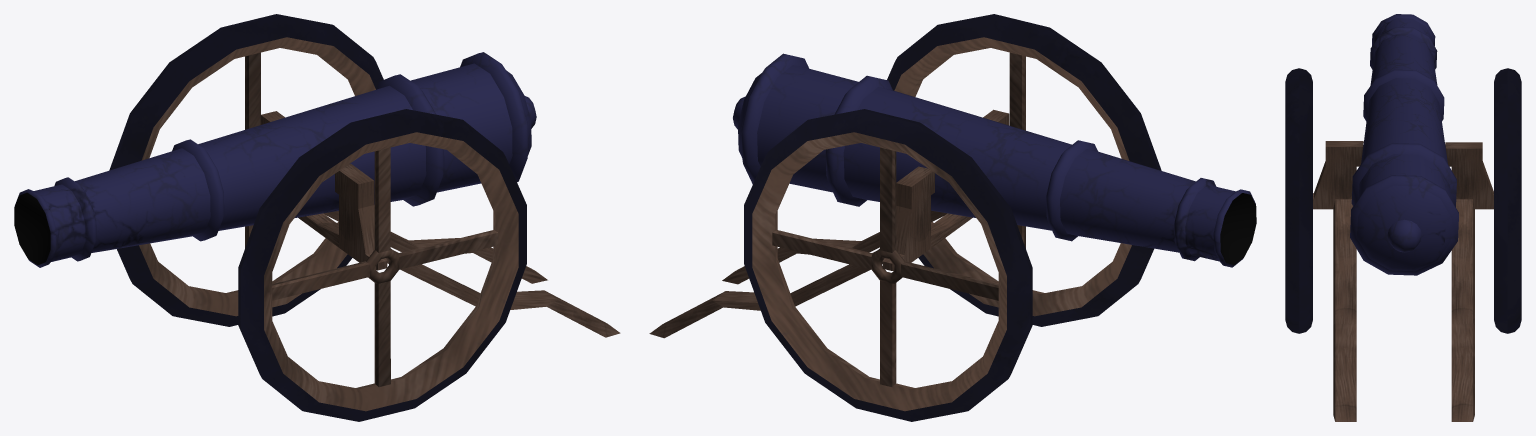
The model's file is CanhaoNavio.fbx.
3 views of the same model, side by side, from view 1: azimuth 30°, elevation 25°; view 2: azimuth 150°, elevation 25°; view 3: azimuth 270°, elevation 25° (orthographic). The views are drawn at different scales.
Parts seen in each view (by area): view 1: RodasCanhao, CorpoCanhao, BaseRodas; view 2: RodasCanhao, CorpoCanhao, BaseRodas; view 3: CorpoCanhao, BaseRodas, RodasCanhao.
Boxes of the visible parts, left/top/right/bottom form: RodasCanhao: left=109, top=14, right=526, bottom=421; CorpoCanhao: left=14, top=52, right=536, bottom=267; BaseRodas: left=260, top=111, right=620, bottom=337; RodasCanhao: left=744, top=14, right=1161, bottom=421; CorpoCanhao: left=733, top=53, right=1256, bottom=267; BaseRodas: left=649, top=109, right=1009, bottom=338; CorpoCanhao: left=1350, top=14, right=1458, bottom=275; BaseRodas: left=1313, top=141, right=1493, bottom=421; RodasCanhao: left=1285, top=68, right=1521, bottom=333.
Size of the model in its own units: 441 by 230 by 206.
